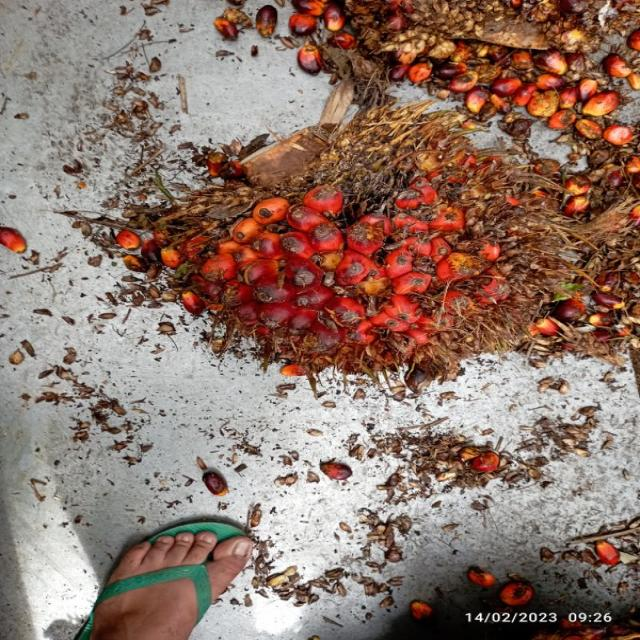fraksi 4: (45, 55, 612, 474)
